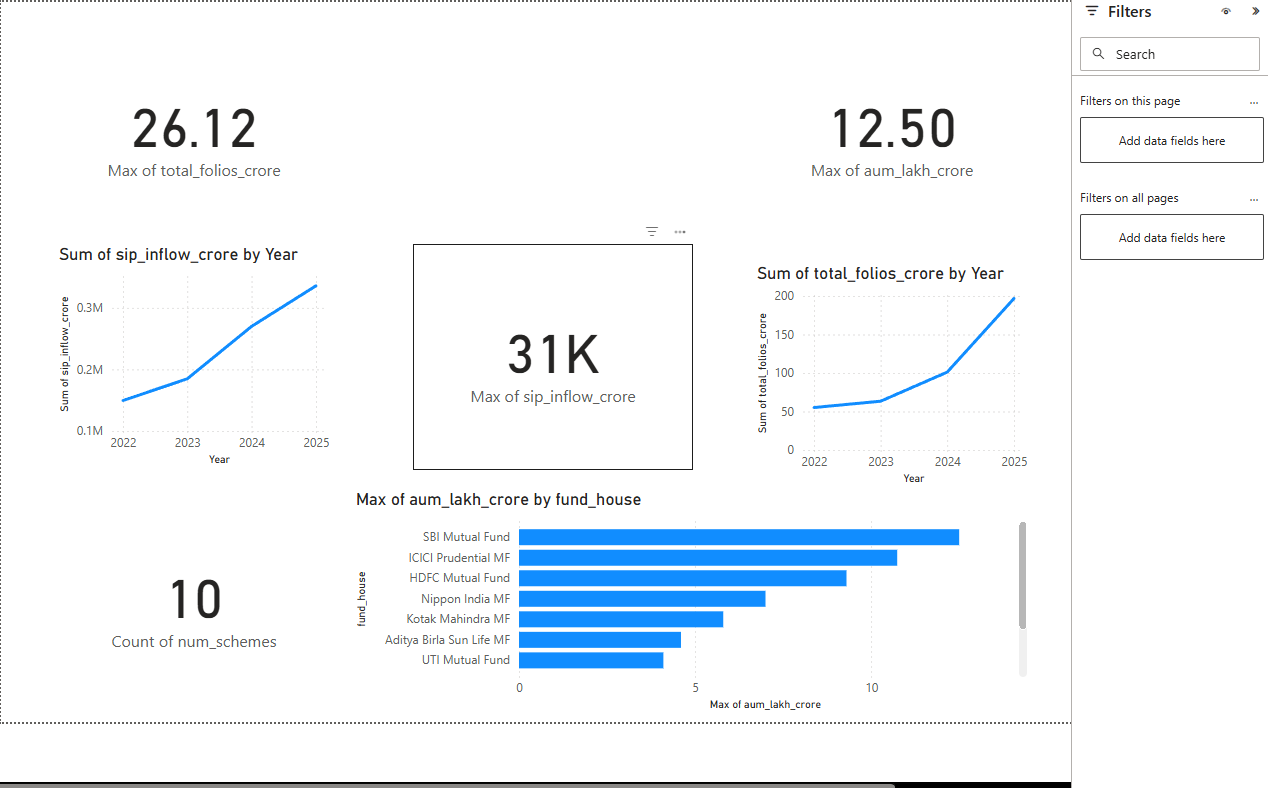

This screenshot's page, from the dashboard's own definition file:
{"tool":"powerbi","page":{"name":"Industry Overview","canvas":[1280,720],"ordinal":0},"visuals":[{"type":"card","title":"Total AUM (₹ Lakh Cr)","fields":{"Values":["Sum(03_aum_by_fund_house.aum_lakh_crore)"]},"box":[21,152,280,226],"z":0},{"type":"card","title":"Monthly SIP Inflow (₹ Cr)","fields":{"Values":["Max(04_monthly_sip_inflows.sip_inflow_crore)"]},"box":[342,152,280,226],"z":1000},{"type":"card","title":"Total Folios (Cr)","fields":{"Values":["Max(06_industry_folio_count.total_folios_crore)"]},"box":[656,152,280,226],"z":2000},{"type":"card","title":"Number of Schemes","fields":{"Values":["Count(03_aum_by_fund_house.num_schemes)"]},"box":[973,152,280,226],"z":3000},{"type":"lineChart","title":"Monthly SIP Inflow Trend (2022–2025)","fields":{"Category":["04_monthly_sip_inflows.month.Variation.Date Hierarchy.Year","04_monthly_sip_inflows.month.Variation.Date Hierarchy.Quarter","04_monthly_sip_inflows.month.Variation.Date Hierarchy.Month","04_monthly_sip_inflows.month.Variation.Date Hierarchy.Day"],"Y":["Sum(04_monthly_sip_inflows.sip_inflow_crore)"]},"box":[46,418,280,226],"z":4000},{"type":"lineChart","title":"Industry Folio Growth (2022–2025)","fields":{"Category":["06_industry_folio_count.month.Variation.Date Hierarchy.Year","06_industry_folio_count.month.Variation.Date Hierarchy.Quarter","06_industry_folio_count.month.Variation.Date Hierarchy.Month","06_industry_folio_count.month.Variation.Date Hierarchy.Day"],"Y":["Sum(06_industry_folio_count.total_folios_crore)"]},"box":[986,418,280,226],"z":5000},{"type":"clusteredBarChart","title":"AUM by Fund House","fields":{"Category":["03_aum_by_fund_house.fund_house"],"Y":["Max(03_aum_by_fund_house.aum_lakh_crore)"]},"box":[358,418,596,226],"z":6000},{"type":"textbox","box":[470.4,18,515.3,69.1],"z":7000},{"type":"image","box":[20,20,100,50],"z":7001}]}

Visuals, with their boxes on the page's 1280x720 design canvas (x1, y1, x2, y2). These are canvas units, not pixel positions in the 1268x788 screenshot, which may show the page scaled, cropped or inside an application window:
"Total AUM (₹ Lakh Cr)" card: select_region(21, 152, 301, 378)
"Monthly SIP Inflow (₹ Cr)" card: select_region(342, 152, 622, 378)
"Total Folios (Cr)" card: select_region(656, 152, 936, 378)
"Number of Schemes" card: select_region(973, 152, 1253, 378)
"Monthly SIP Inflow Trend (2022–2025)" lineChart: select_region(46, 418, 326, 644)
"Industry Folio Growth (2022–2025)" lineChart: select_region(986, 418, 1266, 644)
"AUM by Fund House" clusteredBarChart: select_region(358, 418, 954, 644)
textbox: select_region(470, 18, 986, 87)
image: select_region(20, 20, 120, 70)
